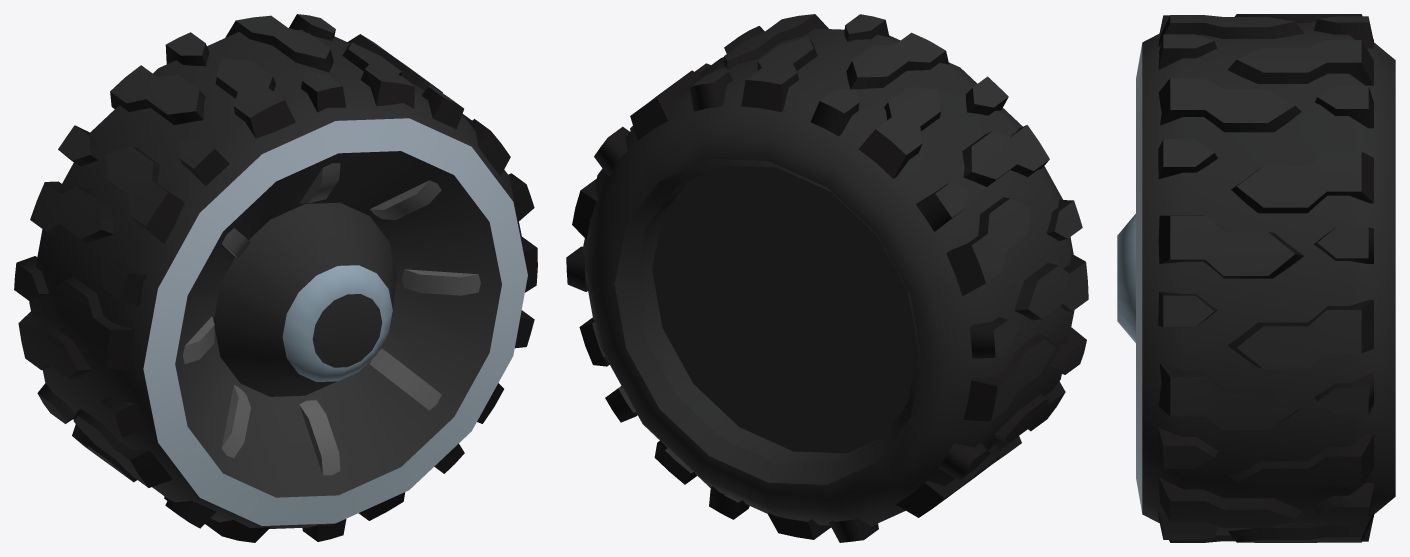
The model's file is wheel_06.fbx.
3 views of the same model, side by side, from view 1: azimuth 30°, elevation 25°; view 2: azimuth 150°, elevation 25°; view 3: azimuth 270°, elevation 25° (orthographic). The views are drawn at different scales.
Parts seen in each view (by area): view 1: wheel_06; view 2: wheel_06; view 3: wheel_06.
Part boxes in pixels (bbox=[...]): wheel_06: bbox=[14, 14, 537, 542]; wheel_06: bbox=[566, 14, 1088, 542]; wheel_06: bbox=[1117, 14, 1395, 542].
Size of the model in its own units: 105 by 105 by 55.3.
